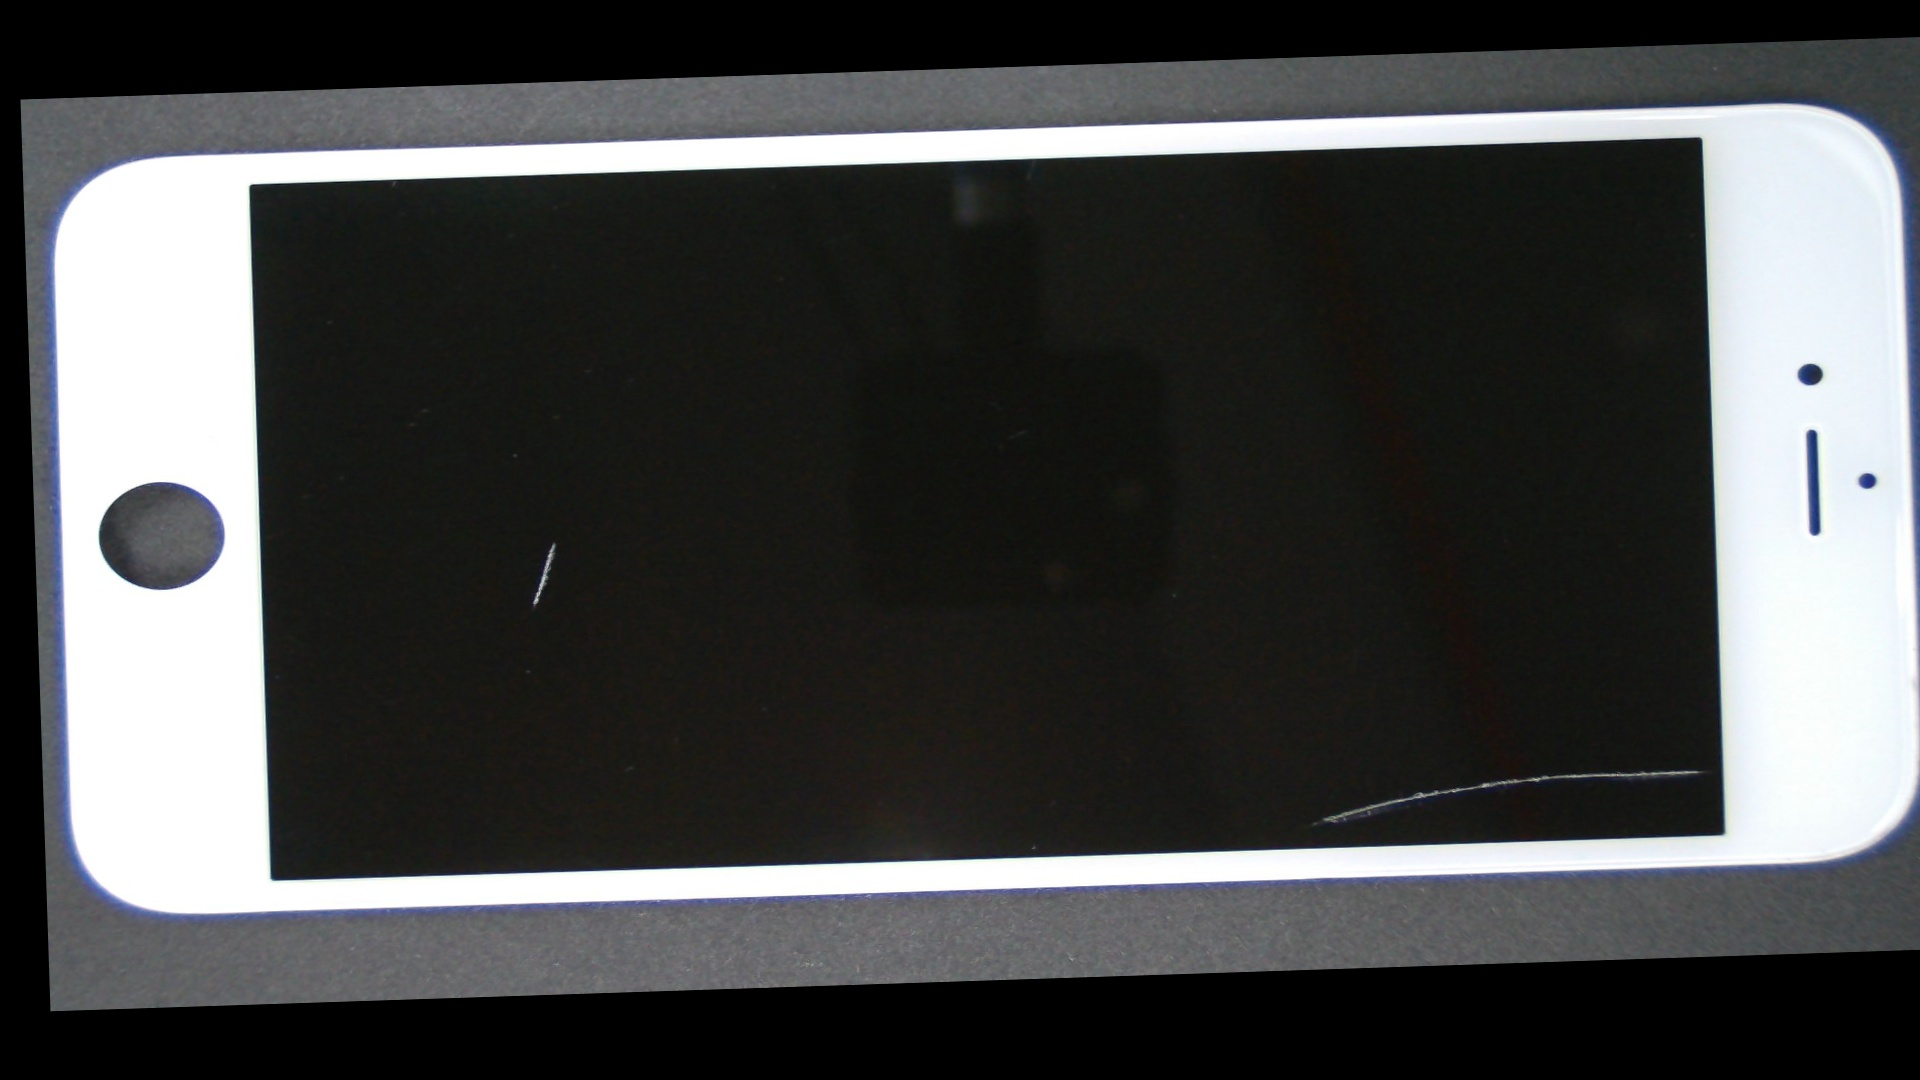oil: (795, 398, 1920, 986), (287, 303, 819, 781)
